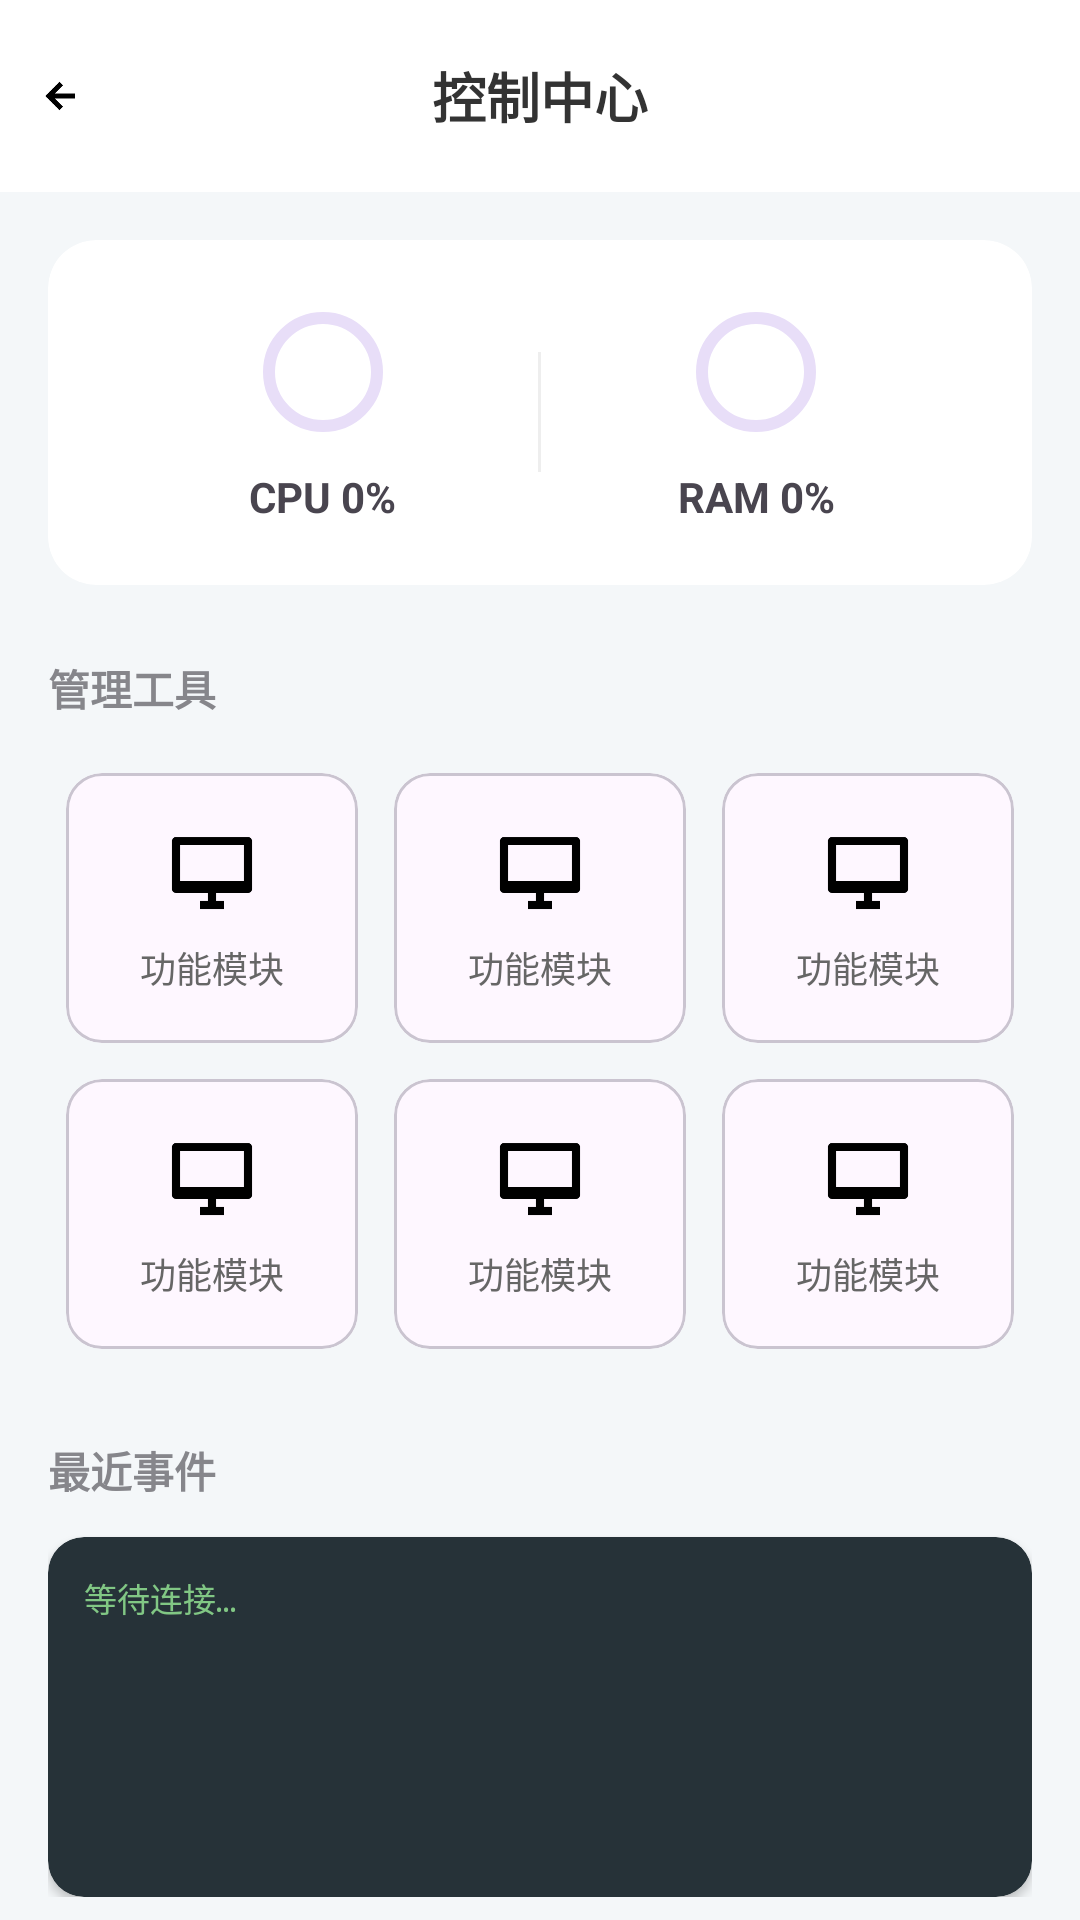

Icon click points for this 1080×1920 phone screenshot, format (x=x, y=y):
返回上一页: (x=60, y=96)
